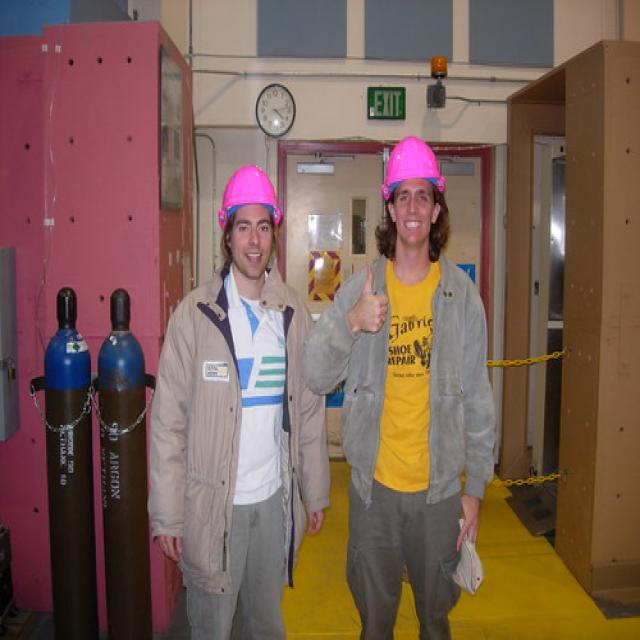Safety-Helmet: (375, 130, 449, 201), (215, 158, 284, 228)
